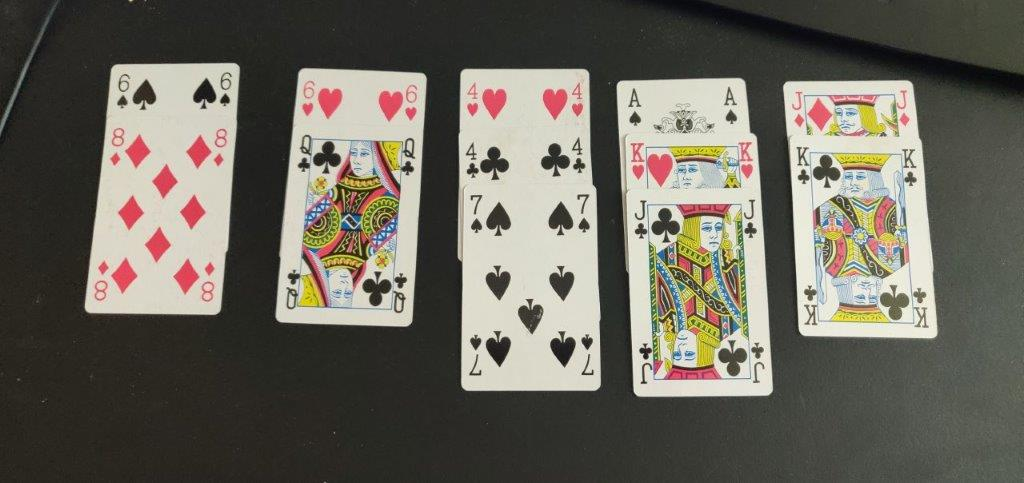4C: (569, 133, 588, 177), (461, 140, 480, 179)
4H: (463, 82, 484, 118), (568, 79, 585, 121)
6H: (402, 81, 420, 123), (299, 76, 316, 120)
6S: (110, 68, 132, 112), (216, 70, 235, 113)
7S: (466, 192, 486, 235), (574, 192, 593, 236)
8D: (106, 125, 127, 168), (210, 126, 231, 169)
AS: (622, 85, 645, 127), (721, 84, 741, 126)
JC: (629, 199, 651, 242), (739, 197, 760, 242)
JD: (890, 85, 912, 127), (788, 89, 808, 129)
KC: (898, 144, 920, 189), (792, 142, 812, 188)
KH: (733, 138, 760, 182), (627, 140, 647, 186)
QC: (294, 133, 315, 175), (399, 137, 417, 177)
